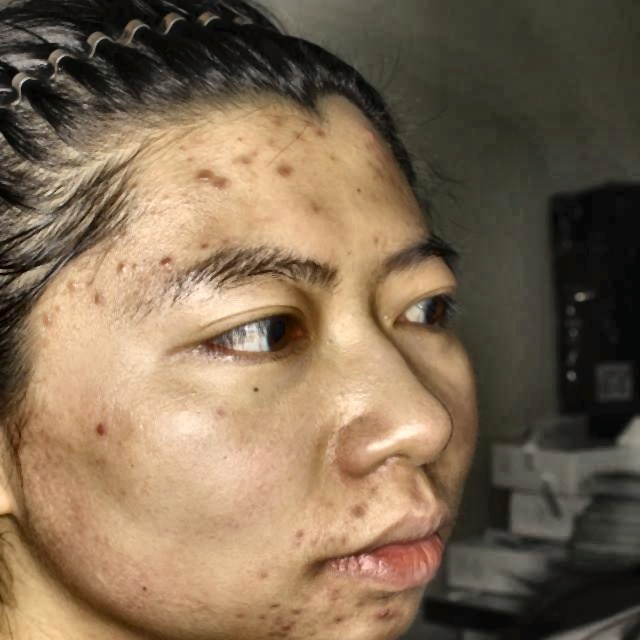pustule: (227, 148, 270, 177), (270, 610, 304, 635), (185, 161, 213, 191), (369, 602, 401, 626), (89, 288, 114, 318), (160, 250, 183, 270), (62, 265, 77, 286), (281, 160, 296, 180)
